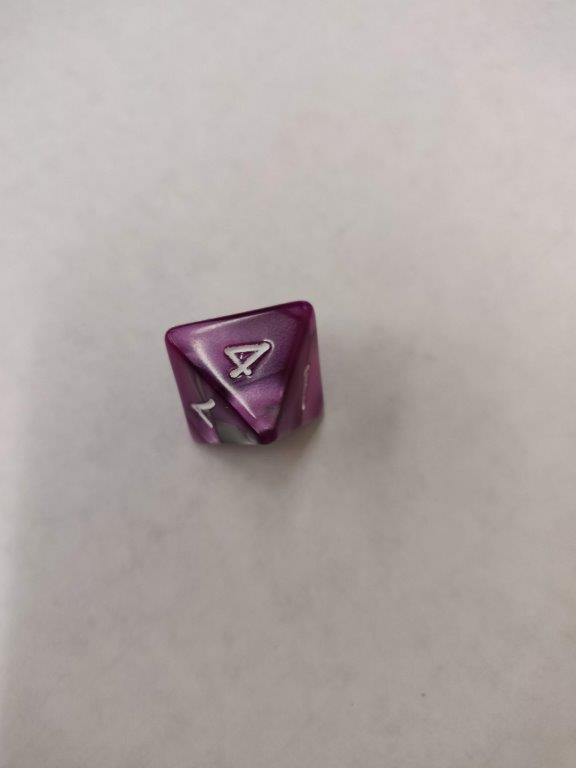d8-4: (166, 298, 332, 443)
